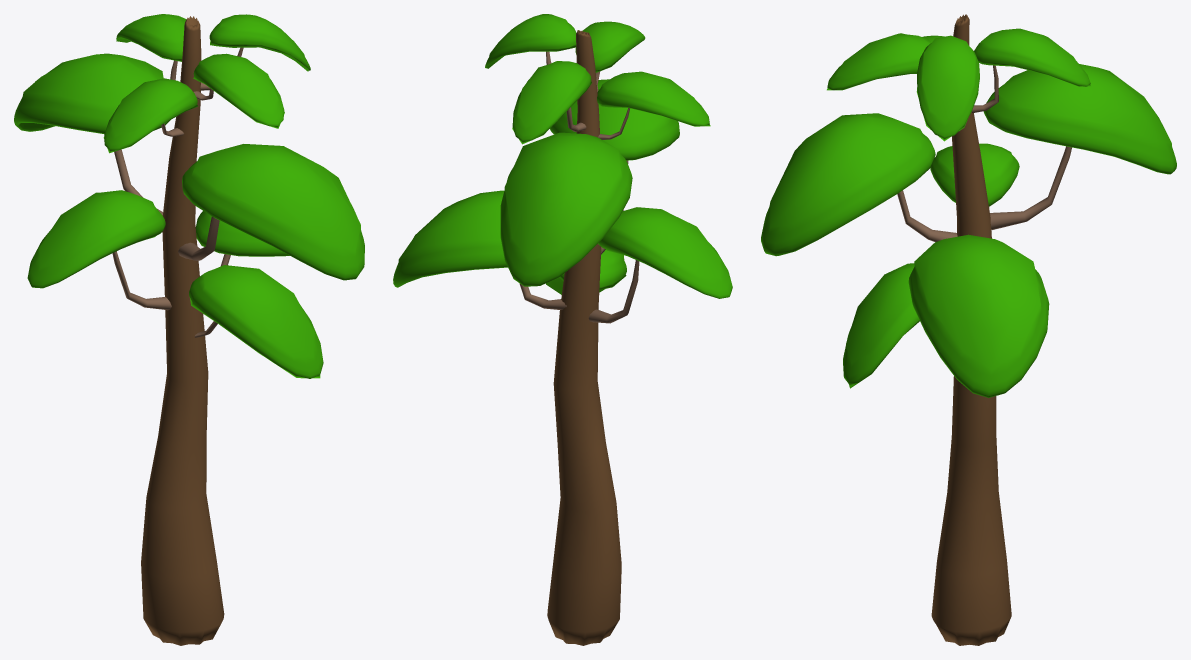
Rendered from TreeBirch.fbx.
The picture shows the model from 3 angles, left to right: view 1: azimuth 30°, elevation 25°; view 2: azimuth 150°, elevation 25°; view 3: azimuth 270°, elevation 25°; orthographic projection. The views are drawn at different scales.
Parts seen in each view (by area): view 1: pSphere11; view 2: pSphere11; view 3: pSphere11.
Boxes of the visible parts, bbox=[...] form: pSphere11: bbox=[14, 14, 364, 645]; pSphere11: bbox=[393, 14, 732, 645]; pSphere11: bbox=[761, 14, 1176, 645].
Size of the model in its own units: 4.44 by 7.86 by 4.77.
